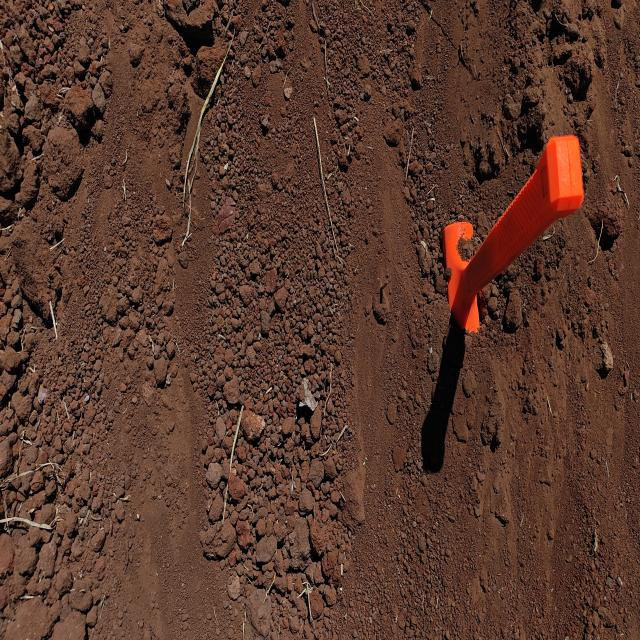Orange_hammer: (442, 132, 584, 334)
